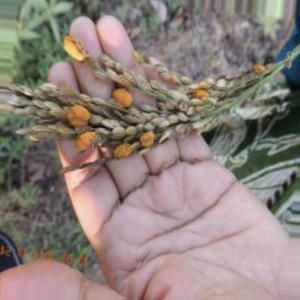Leaf_Scald: (67, 100, 93, 151), (108, 133, 153, 158), (60, 28, 81, 72), (76, 26, 102, 61), (184, 87, 215, 106), (108, 90, 134, 108), (249, 57, 273, 76)
